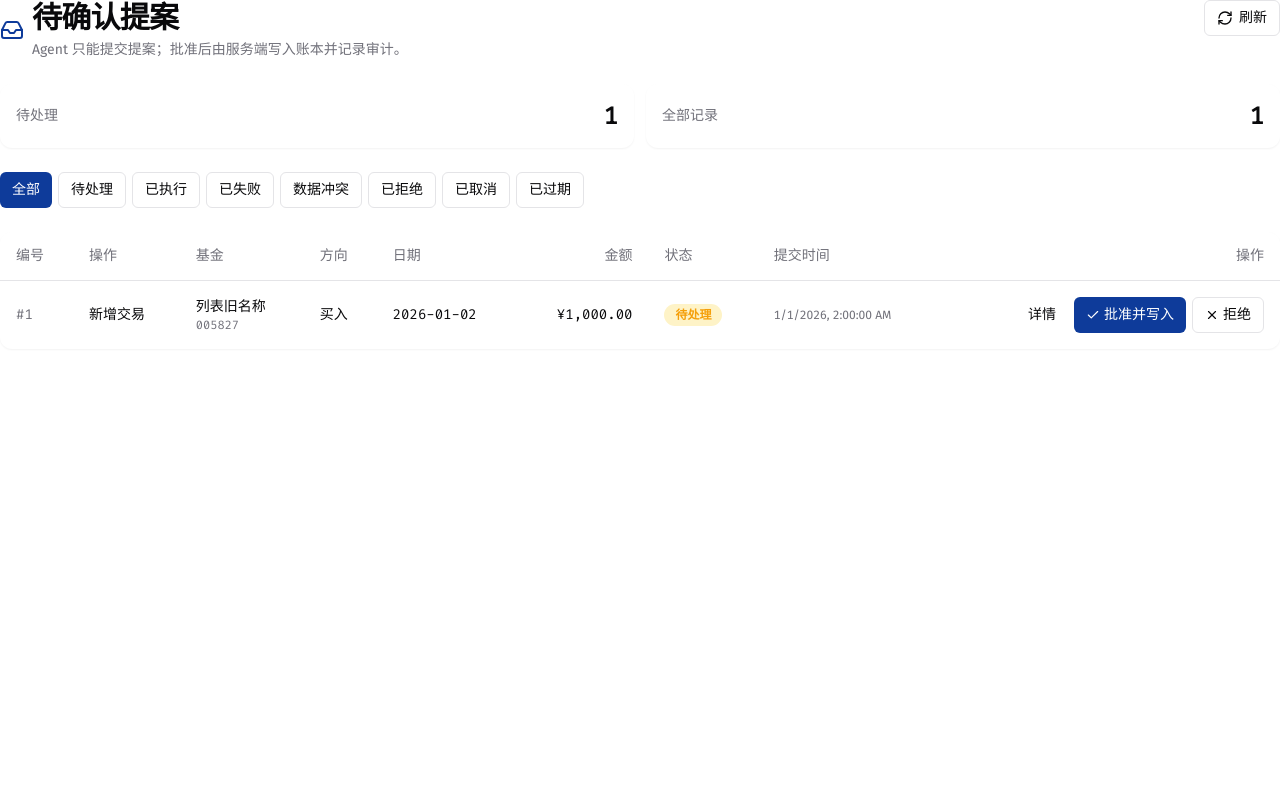
Scenario: Proposals › 打开详情时重新拉取最新提案而不是复用列表数据
Click the button "详情" at (1042, 314), box [1016, 296, 1068, 332]
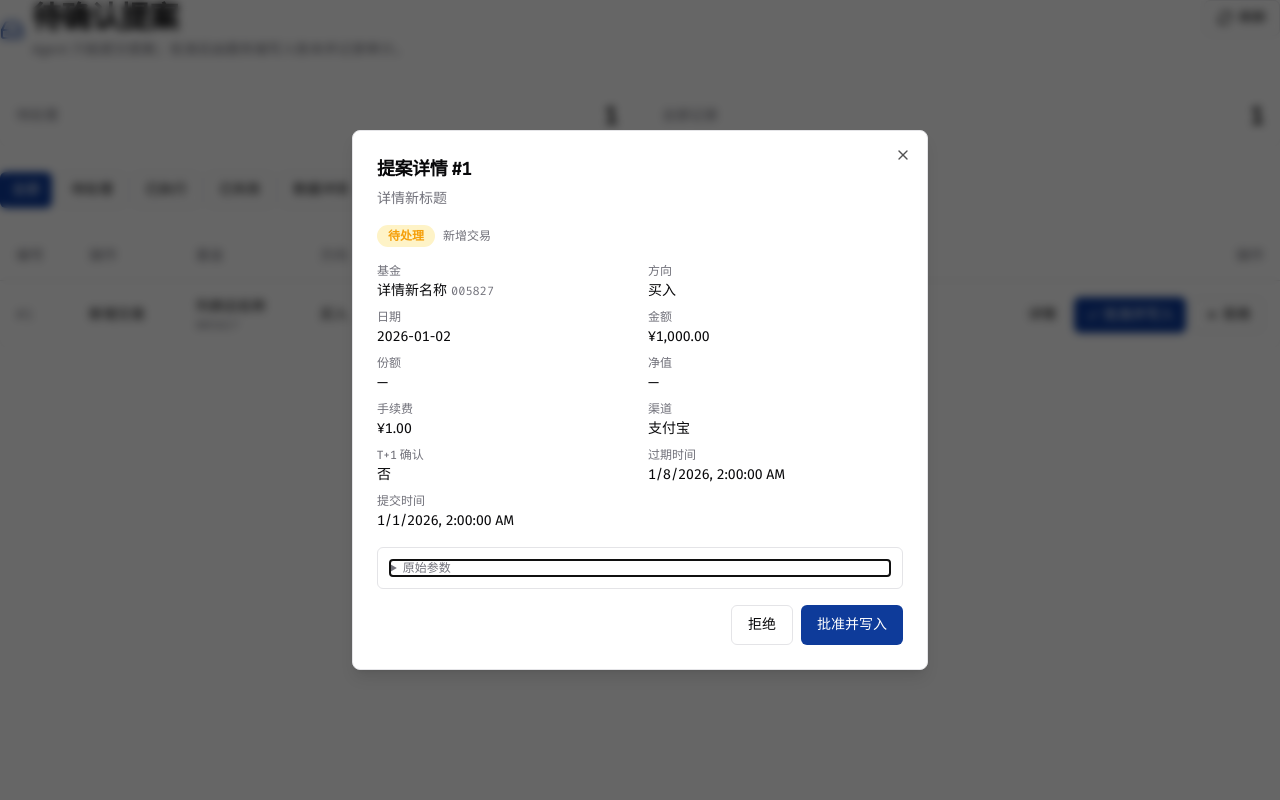
expect the text "详情新名称" is shown: met, box [377, 282, 447, 299]
expect the text "详情新标题" is shown: met, box [377, 190, 447, 207]
